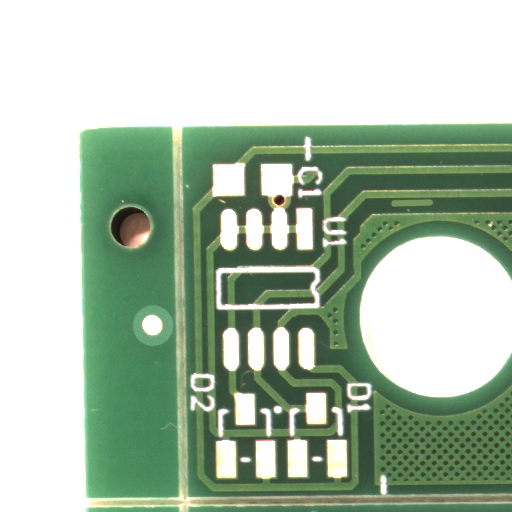Spurious_copper: (411, 203, 455, 214)
